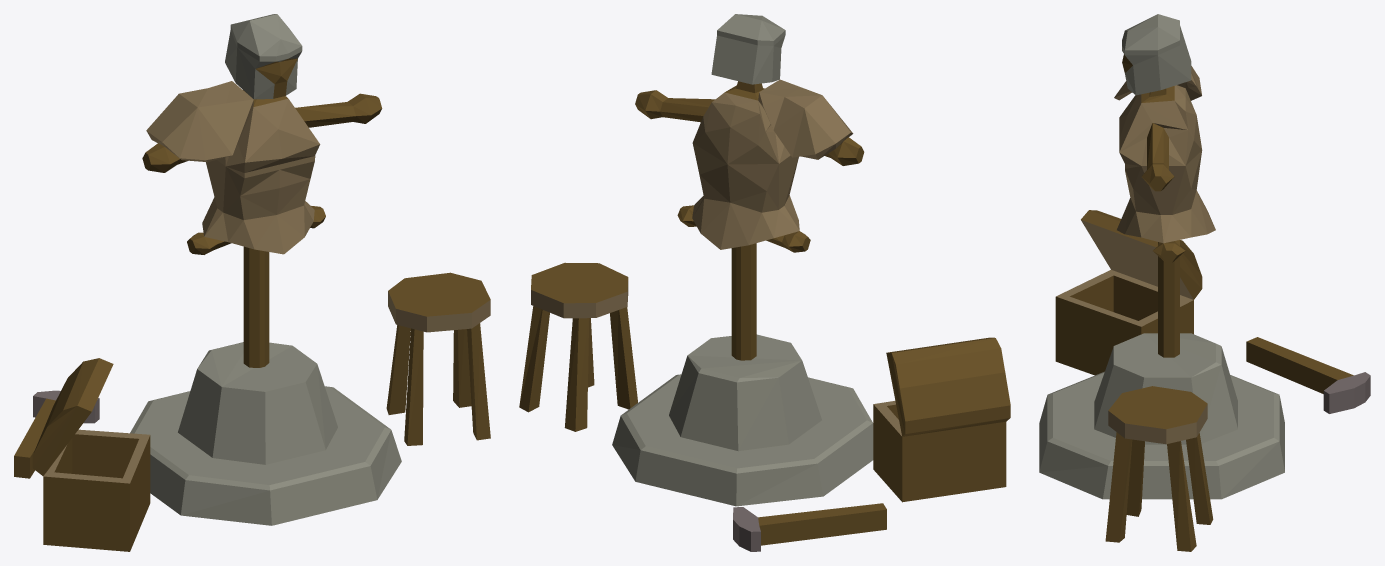
File: armour-repair-stand.gltf
The picture shows the model from 3 angles, left to right: view 1: azimuth 30°, elevation 25°; view 2: azimuth 150°, elevation 25°; view 3: azimuth 270°, elevation 25°; orthographic projection. The views are drawn at different scales.
Size of the model in its own units: 189 by 171 by 120.
Materials: 1 (1 with a texture image).
